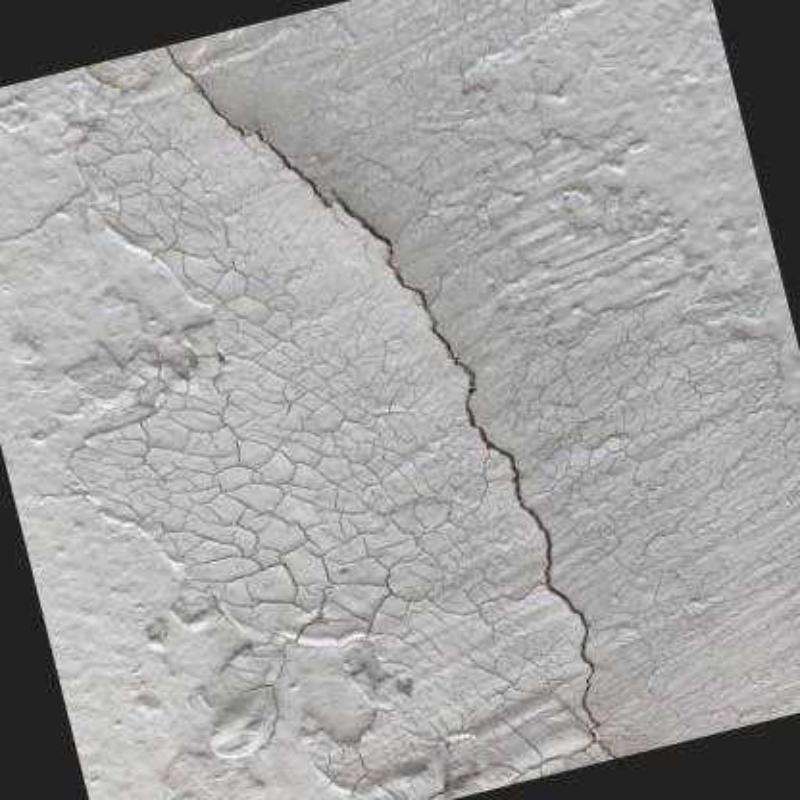pothole: (162, 46, 617, 759)
